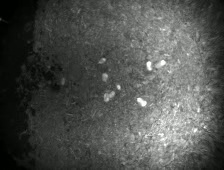corn: (133, 94, 150, 109), (143, 59, 156, 73), (153, 58, 168, 69), (101, 90, 112, 104), (98, 71, 110, 83), (96, 55, 108, 67), (106, 89, 118, 100), (57, 75, 68, 87), (112, 78, 122, 90)
